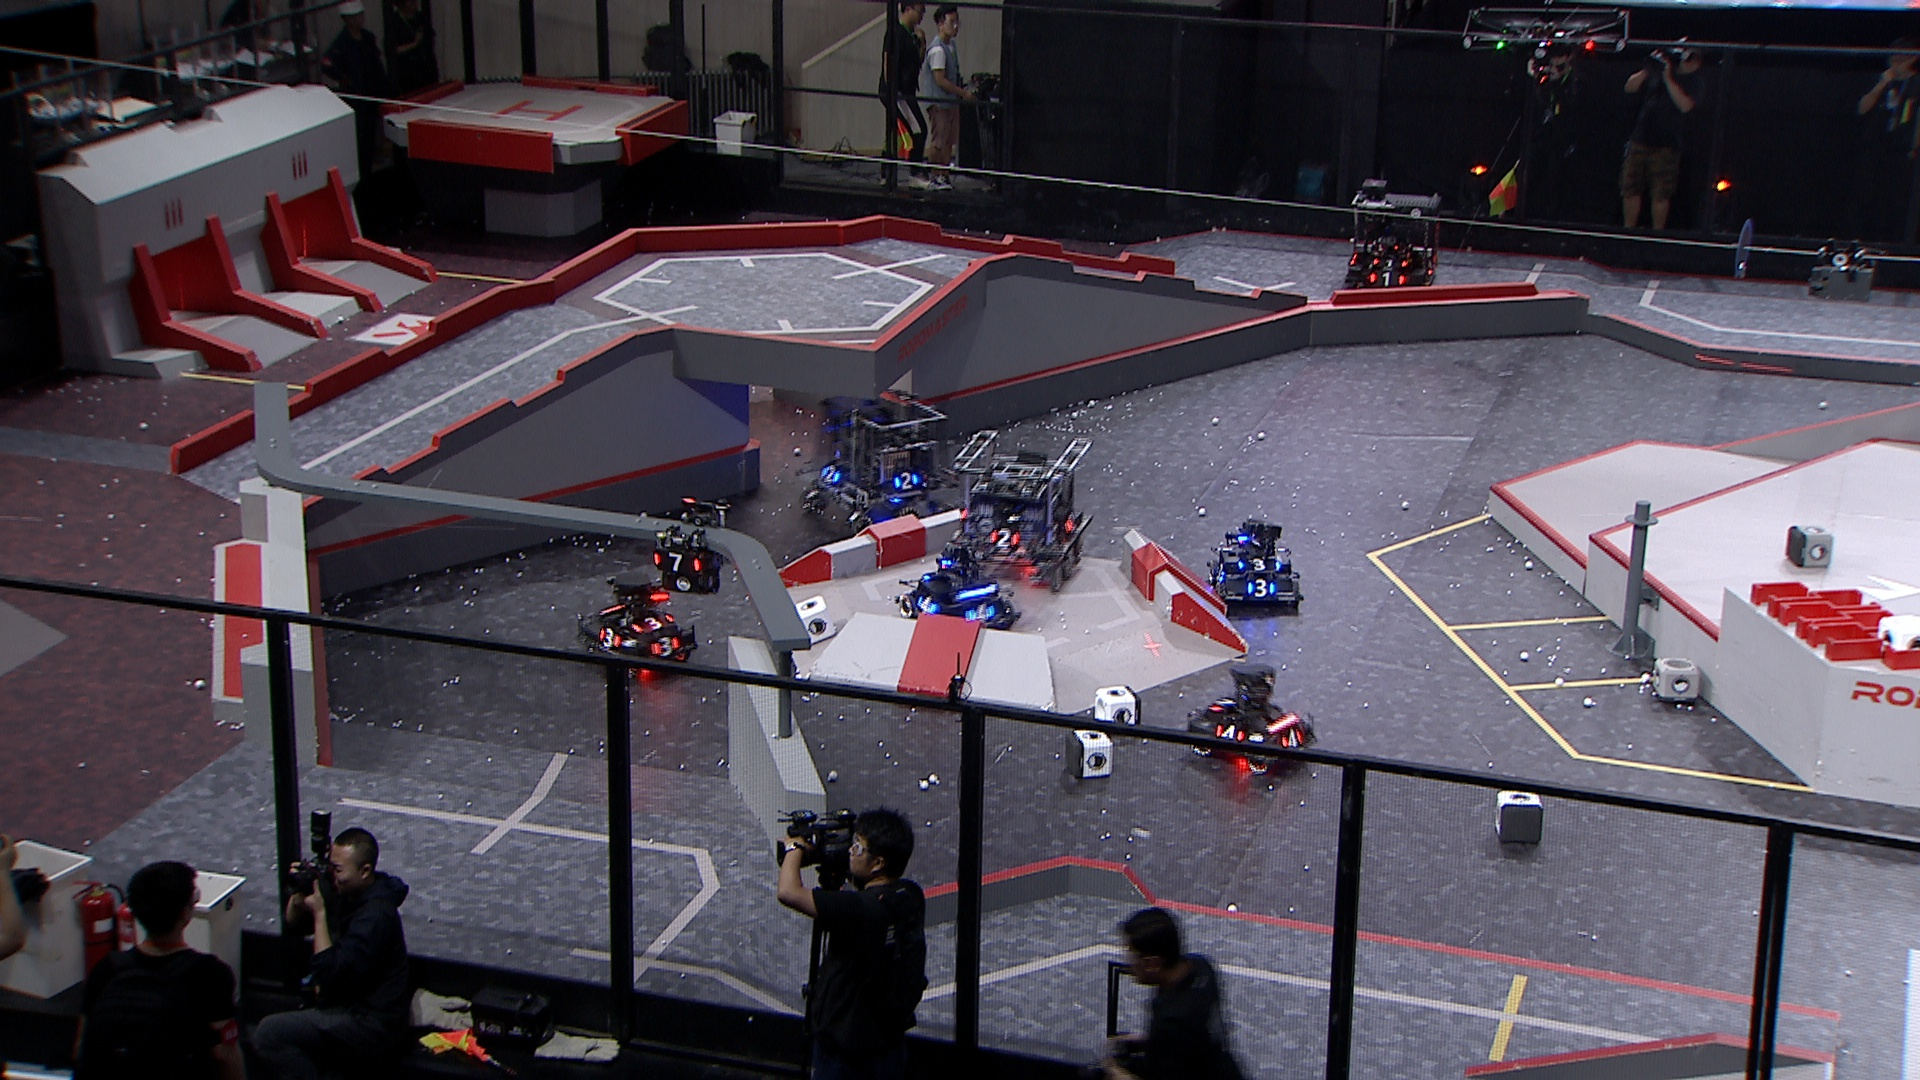armor: (651, 551, 704, 576), (632, 612, 678, 633), (964, 600, 997, 624), (1367, 272, 1408, 290), (650, 637, 683, 659), (1237, 556, 1282, 572), (989, 527, 1021, 549), (1212, 723, 1247, 741), (1244, 579, 1276, 597), (1371, 256, 1410, 272), (597, 626, 622, 650), (891, 471, 920, 491), (915, 593, 940, 615), (1209, 695, 1237, 713), (820, 463, 843, 485), (1282, 728, 1305, 749), (1064, 513, 1081, 535), (1215, 560, 1226, 585), (1425, 261, 1439, 277)
car: (949, 425, 1095, 589), (799, 389, 955, 541), (1187, 662, 1317, 773), (891, 533, 1021, 637), (576, 574, 704, 676), (1344, 181, 1447, 295), (1207, 517, 1305, 613)
watcher: (651, 496, 731, 597)
